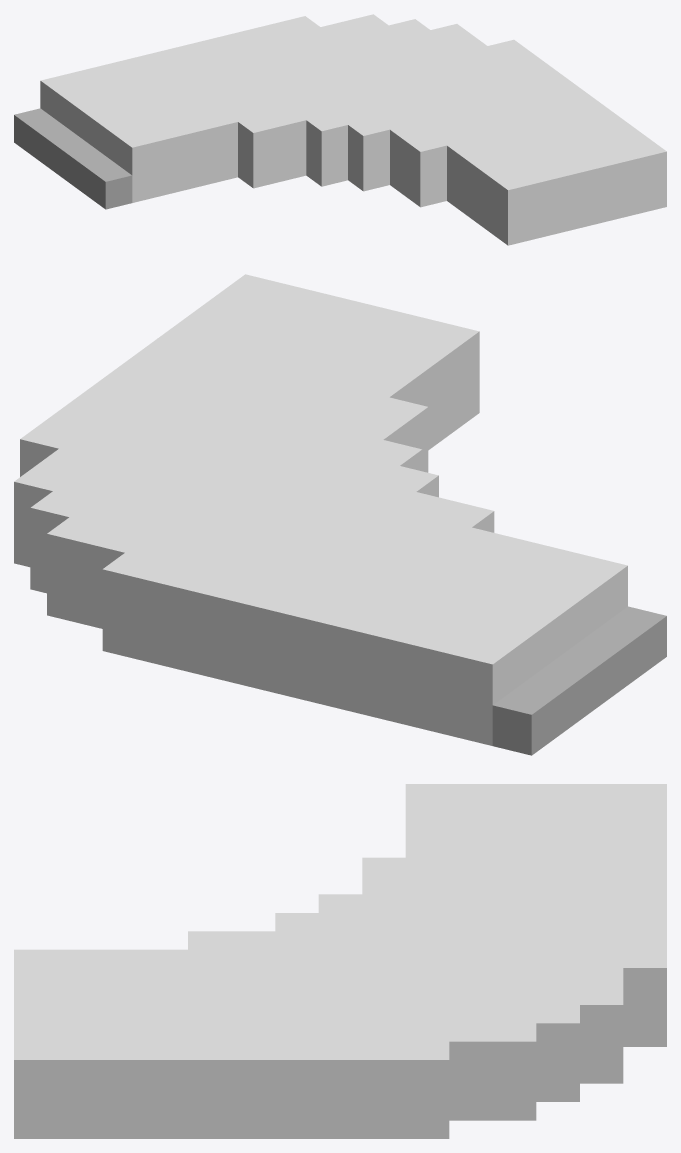
The model's file is ar_big_corner.fbx.
The picture shows the model from 3 angles, top to bottom: view 1: azimuth 30°, elevation 25°; view 2: azimuth 150°, elevation 25°; view 3: azimuth 270°, elevation 25°; orthographic projection. The views are drawn at different scales.
Visible parts, largest first — view 1: Matrix_10_part; view 2: Matrix_10_part; view 3: Matrix_10_part.
Boxes of the visible parts, left/top/right/bottom form: Matrix_10_part: left=14, top=14, right=666, bottom=245; Matrix_10_part: left=14, top=274, right=666, bottom=755; Matrix_10_part: left=14, top=784, right=666, bottom=1138.
Bounding box in the file's own units: 16 × 2 × 15.
1 material, 1 textured.
